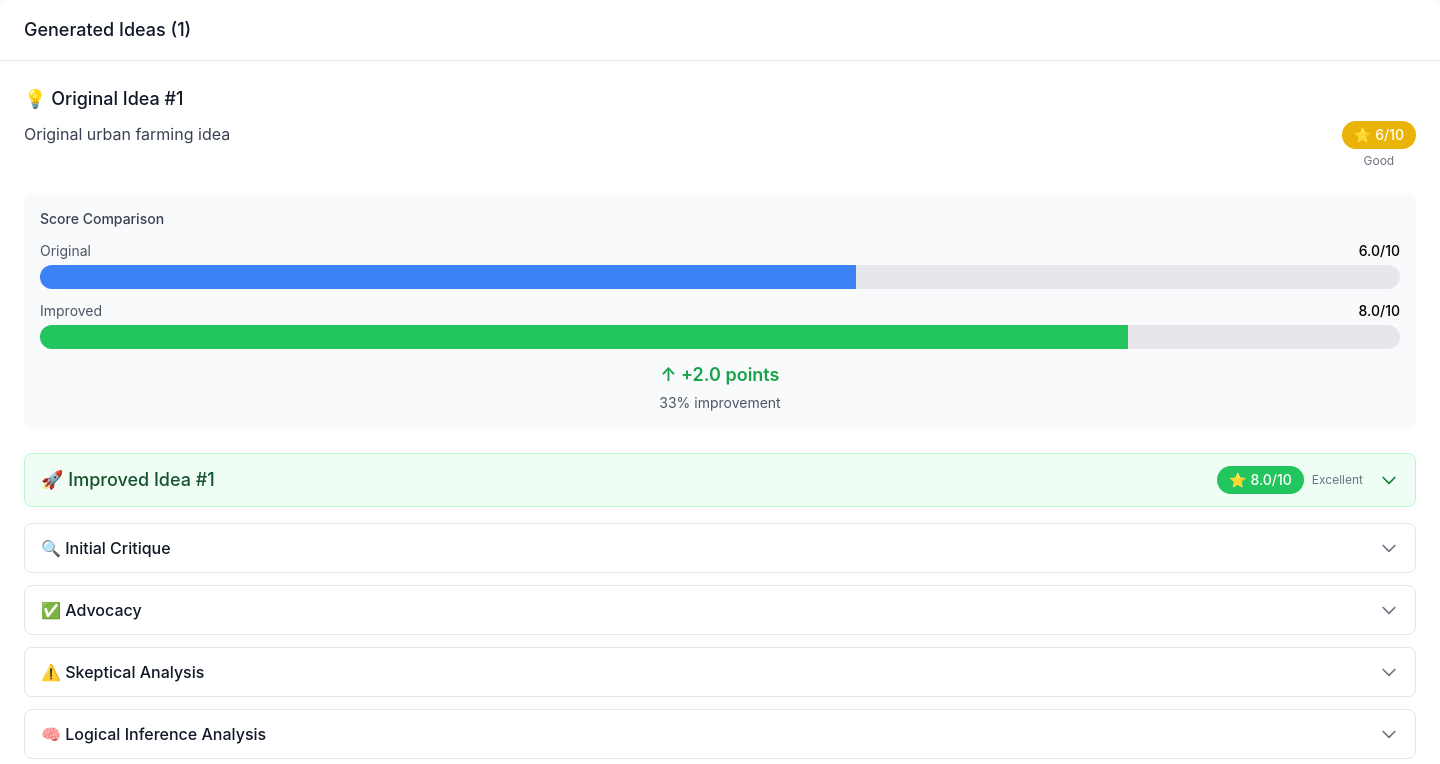
Test: ResultsDisplay - Logical Inference Display › should display inference chain steps
Expand the logical inference section
Click the button with aria-label "toggle logical inference". click: (154, 734)
box: x1=25 y1=710 x2=1415 y2=758
(page scrolled)
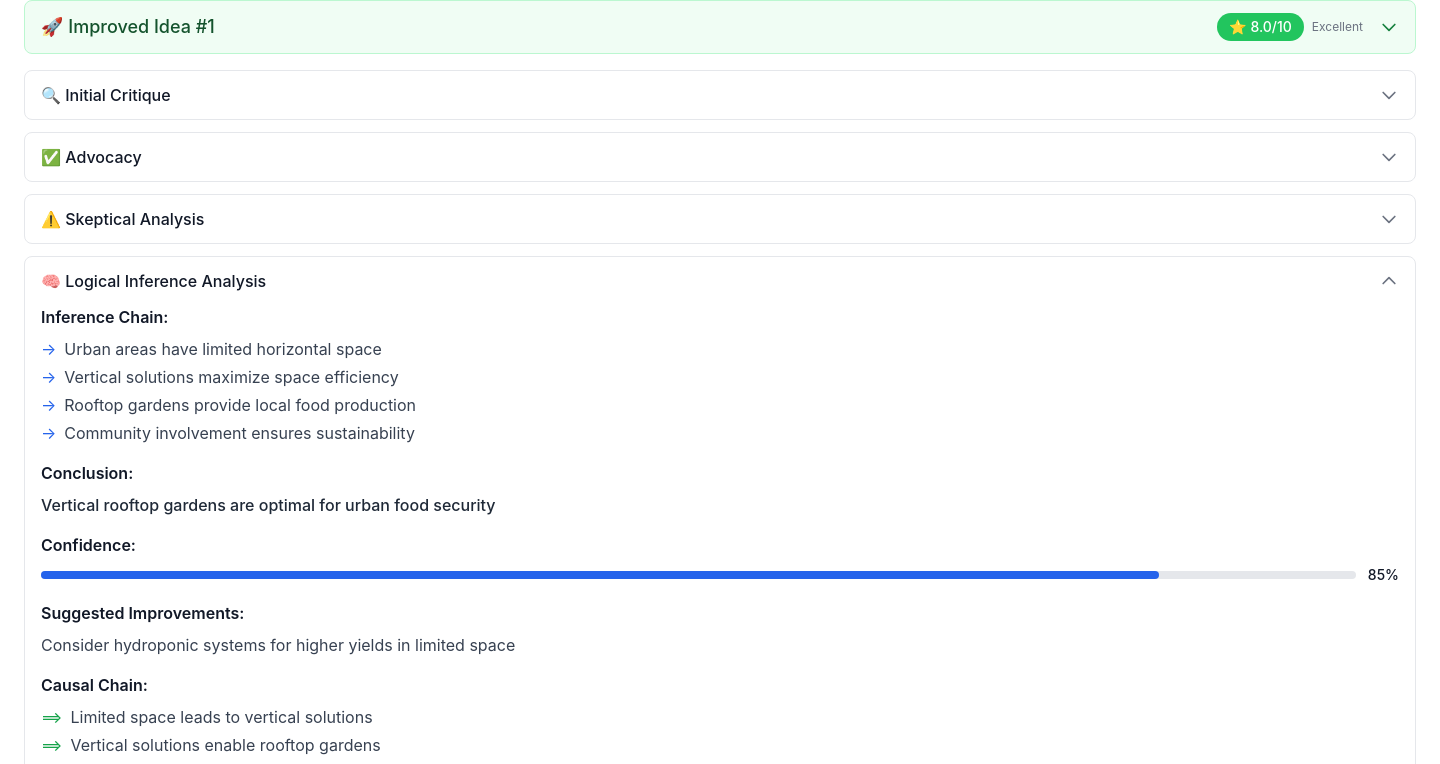
Result: the text "Urban areas have limited horizontal space" is shown at x1=64 y1=337 x2=382 y2=361
Result: the text "Vertical solutions maximize space efficiency" is shown at x1=64 y1=365 x2=399 y2=389
Result: the text "Rooftop gardens provide local food production" is shown at x1=64 y1=393 x2=416 y2=417
